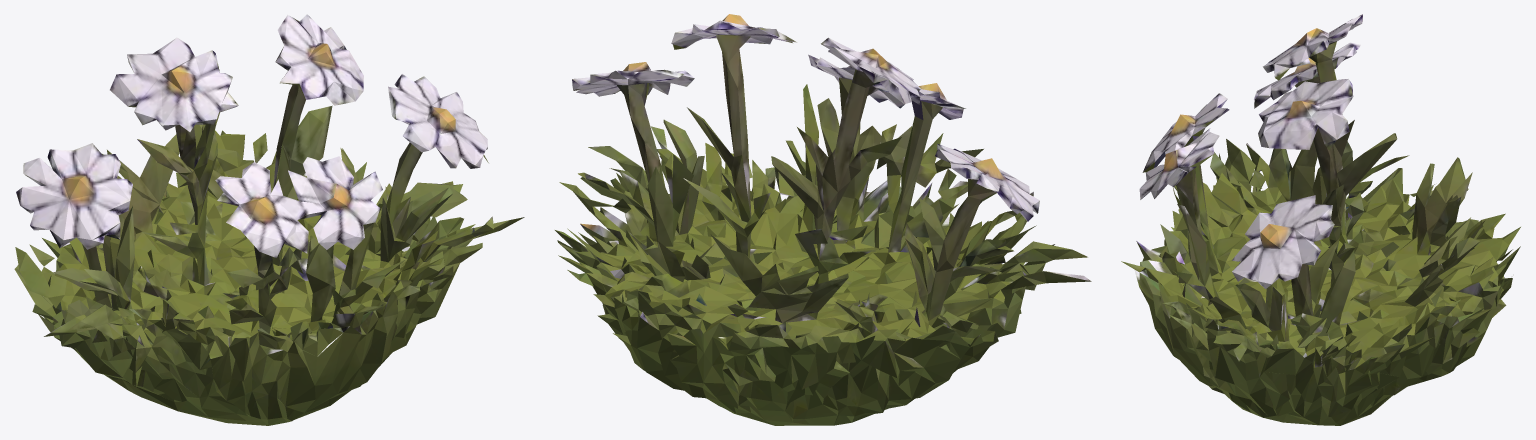
File: flower_a_white.glb
The picture shows the model from 3 angles, left to right: view 1: azimuth 30°, elevation 25°; view 2: azimuth 150°, elevation 25°; view 3: azimuth 270°, elevation 25°; orthographic projection. The views are drawn at different scales.
Visible parts, largest first — view 1: geometry_0; view 2: geometry_0; view 3: geometry_0.
Boxes of the visible parts, left/top/right/bottom form: geometry_0: left=14, top=14, right=524, bottom=425; geometry_0: left=555, top=14, right=1091, bottom=425; geometry_0: left=1121, top=14, right=1520, bottom=425.
Bounding box in the file's own units: 0.8 × 0.5905 × 0.6018.
1 material, 1 textured.
